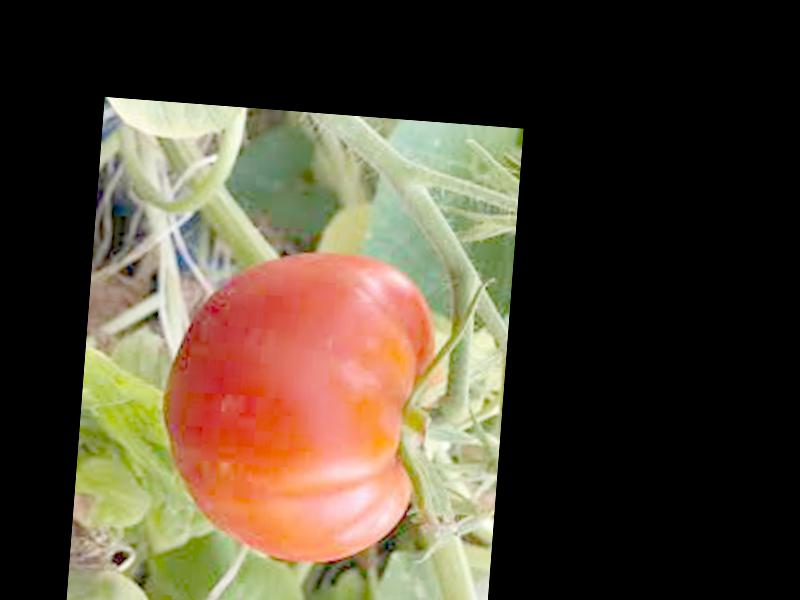Tomato: (155, 238, 440, 570)
